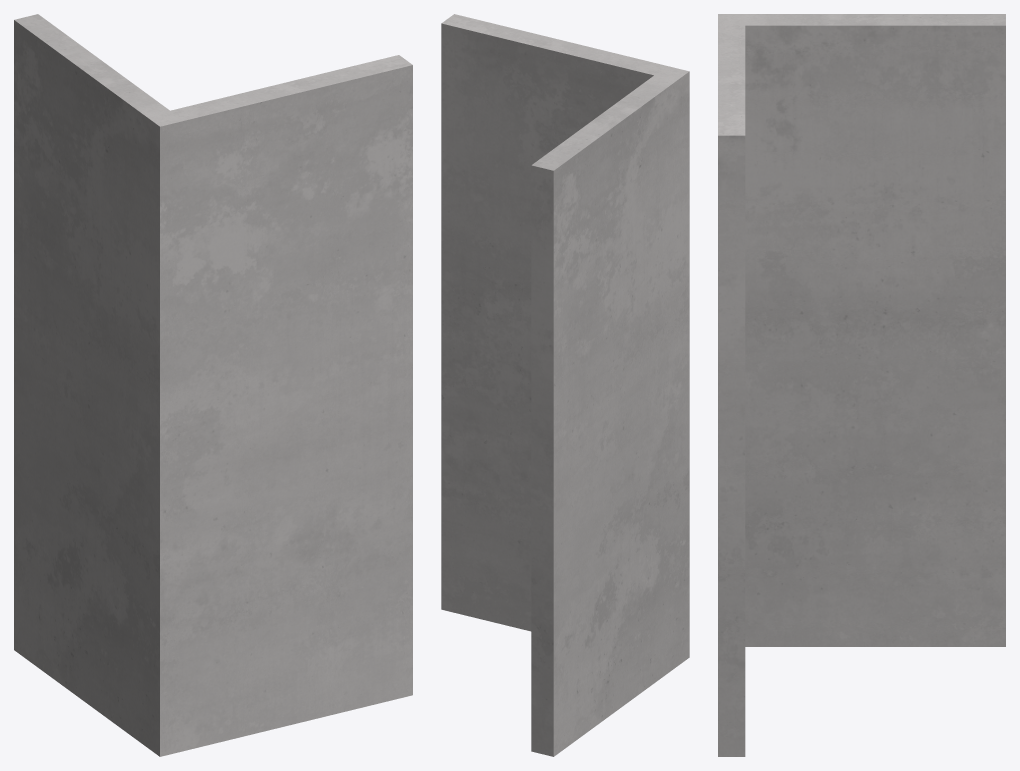
File: Wall Corner.fbx
The picture shows the model from 3 angles, left to right: view 1: azimuth 30°, elevation 25°; view 2: azimuth 150°, elevation 25°; view 3: azimuth 270°, elevation 25°; orthographic projection. The views are drawn at different scales.
Parts seen in each view (by area): view 1: Corner Wall; view 2: Corner Wall; view 3: Corner Wall.
Part boxes in pixels (x1,y1,x2,y2): Corner Wall: (14, 14, 412, 756); Corner Wall: (441, 14, 689, 756); Corner Wall: (718, 14, 1005, 756).
Bounding box in the file's own units: 420 × 1000 × 420.
